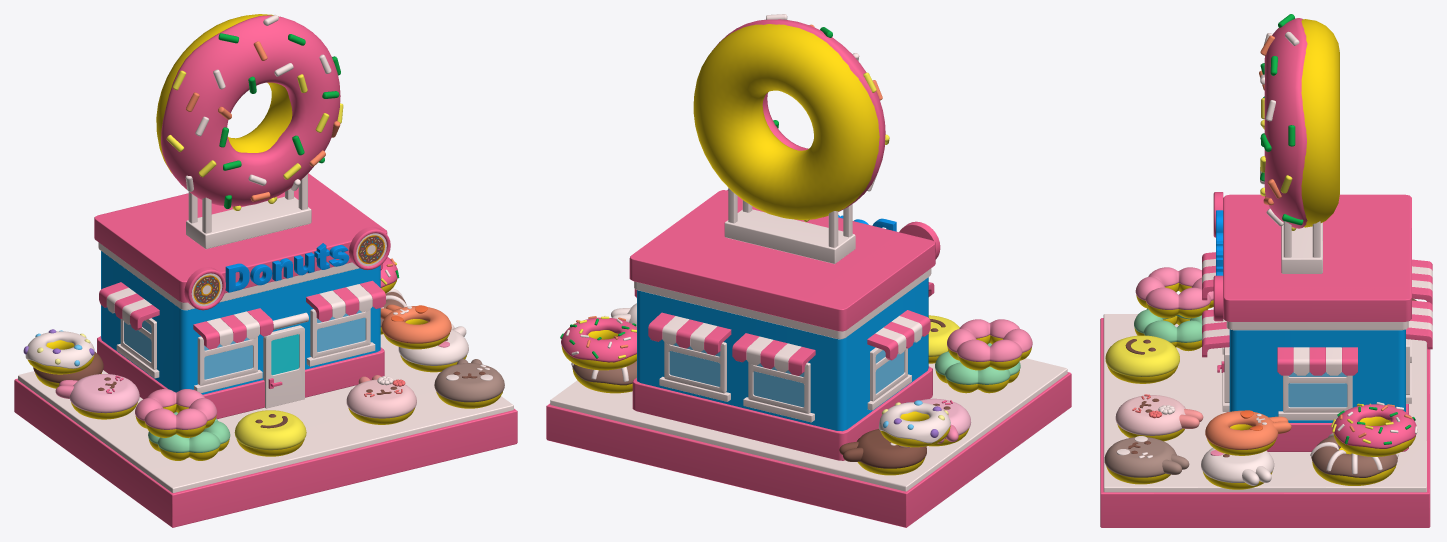
File: Store_Island_14.glb
3 views of the same model, side by side, from view 1: azimuth 30°, elevation 25°; view 2: azimuth 150°, elevation 25°; view 3: azimuth 270°, elevation 25° (orthographic). The views are drawn at different scales.
Parts seen in each view (by area): view 1: Store_14_Donuts_Shop_1, Store_14_Base_1, Store_14_Donuts_Sign_2, Store_14_Donut_12, Store_14_Donut_6, Store_14_Donut_8, Store_14_Donut_11, Store_14_Donut_7, Store_14_Donut_9, Store_14_Donut_2, Store_14_Donuts_Sign_1, Store_14_Donut_10 (+4 smaller); view 2: Store_14_Donuts_Shop_1, Store_14_Donuts_Sign_2, Store_14_Base_1, Store_14_Donut_1, Store_14_Donut_12, Store_14_Donut_2, Store_14_Donut_4, Store_14_Donut_10, Store_14_Donut_3, Store_14_Donut_6, Store_14_Donut_11; view 3: Store_14_Donuts_Shop_1, Store_14_Base_1, Store_14_Donuts_Sign_2, Store_14_Donut_1, Store_14_Donut_12, Store_14_Donut_7, Store_14_Donut_8, Store_14_Donut_11, Store_14_Donut_9, Store_14_Donut_3, Store_14_Donut_5, Store_14_Donut_10 (+2 smaller).
Part boxes in pixels (x1,y1,x2,y2): Store_14_Donuts_Shop_1: (94,173,387,419); Store_14_Base_1: (14,334,517,527); Store_14_Donuts_Sign_2: (156,14,343,248); Store_14_Donut_12: (135,389,217,437); Store_14_Donut_6: (55,374,139,419); Store_14_Donut_8: (346,375,416,424); Store_14_Donut_11: (234,410,306,456); Store_14_Donut_7: (434,359,504,408); Store_14_Donut_9: (380,304,451,349); Store_14_Donut_2: (23,329,94,374); Store_14_Donuts_Sign_1: (225,243,349,292); Store_14_Donut_10: (148,412,230,460); Store_14_Donuts_Shop_1: (629,190,935,460); Store_14_Donuts_Sign_2: (693,14,889,263); Store_14_Base_1: (546,358,1071,527); Store_14_Donut_1: (560,315,636,370); Store_14_Donut_12: (947,319,1032,370); Store_14_Donut_2: (878,400,950,447); Store_14_Donut_4: (839,429,926,475); Store_14_Donut_10: (935,343,1020,393); Store_14_Donut_3: (571,361,636,393); Store_14_Donut_6: (920,398,971,446); Store_14_Donut_11: (928,315,959,363); Store_14_Donuts_Shop_1: (1202,194,1432,451); Store_14_Base_1: (1100,314,1430,527); Store_14_Donuts_Sign_2: (1259,14,1339,273); Store_14_Donut_1: (1331,402,1417,456); Store_14_Donut_12: (1135,267,1213,318); Store_14_Donut_7: (1104,436,1189,484); Store_14_Donut_8: (1115,394,1203,441); Store_14_Donut_11: (1105,335,1179,383); Store_14_Donut_9: (1205,410,1291,455); Store_14_Donut_3: (1310,433,1398,485); Store_14_Donut_5: (1201,448,1274,489); Store_14_Donut_10: (1134,308,1201,351).
Size of the model in its own units: 16.46 by 16.56 by 12.04.
Materials: 18 (18 with a texture image).
